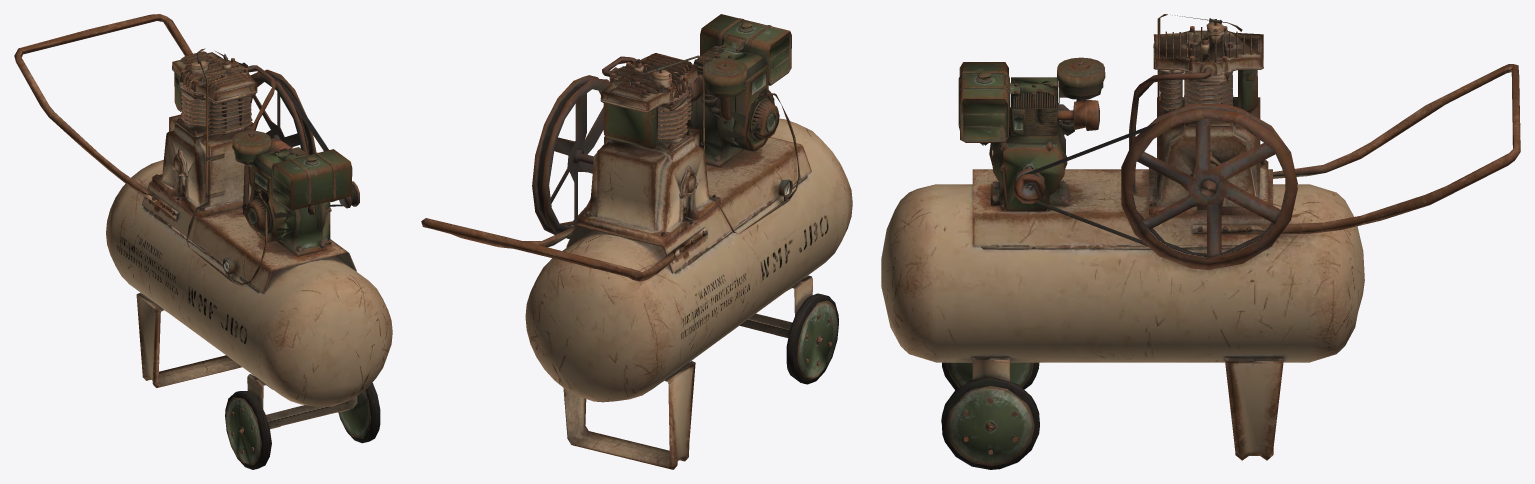
Rendered from compressor.glb.
The picture shows the model from 3 angles, left to right: view 1: azimuth 30°, elevation 25°; view 2: azimuth 150°, elevation 25°; view 3: azimuth 270°, elevation 25°; orthographic projection. The views are drawn at different scales.
Parts seen in each view (by area): view 1: old_military_compressor; view 2: old_military_compressor; view 3: old_military_compressor.
Boxes of the visible parts, box(x1,y1,x2,y2) form: old_military_compressor: box(14, 14, 392, 469); old_military_compressor: box(421, 14, 852, 469); old_military_compressor: box(881, 14, 1520, 469).
Size of the model in its own units: 0.5957 by 1.18 by 1.67.
2 materials, 2 textured.
